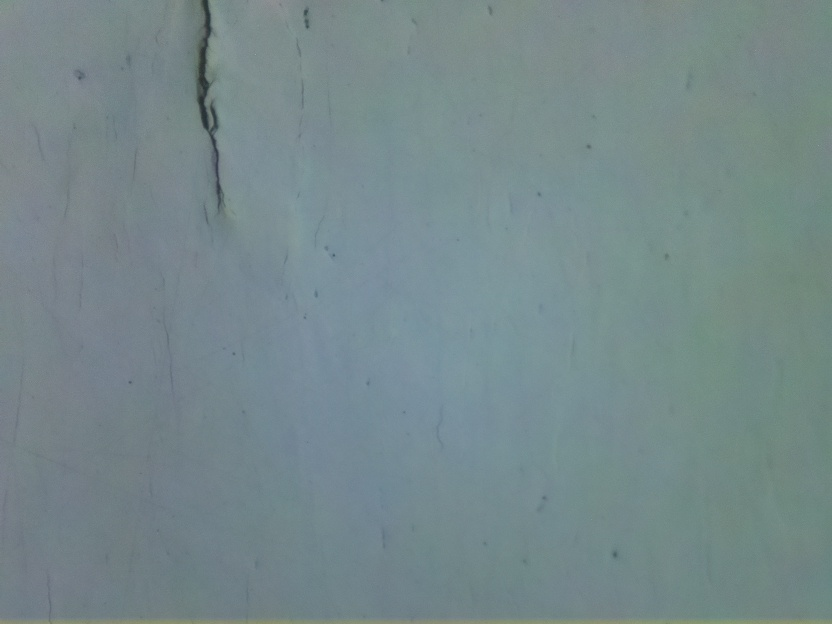crack: (191, 0, 226, 211)
